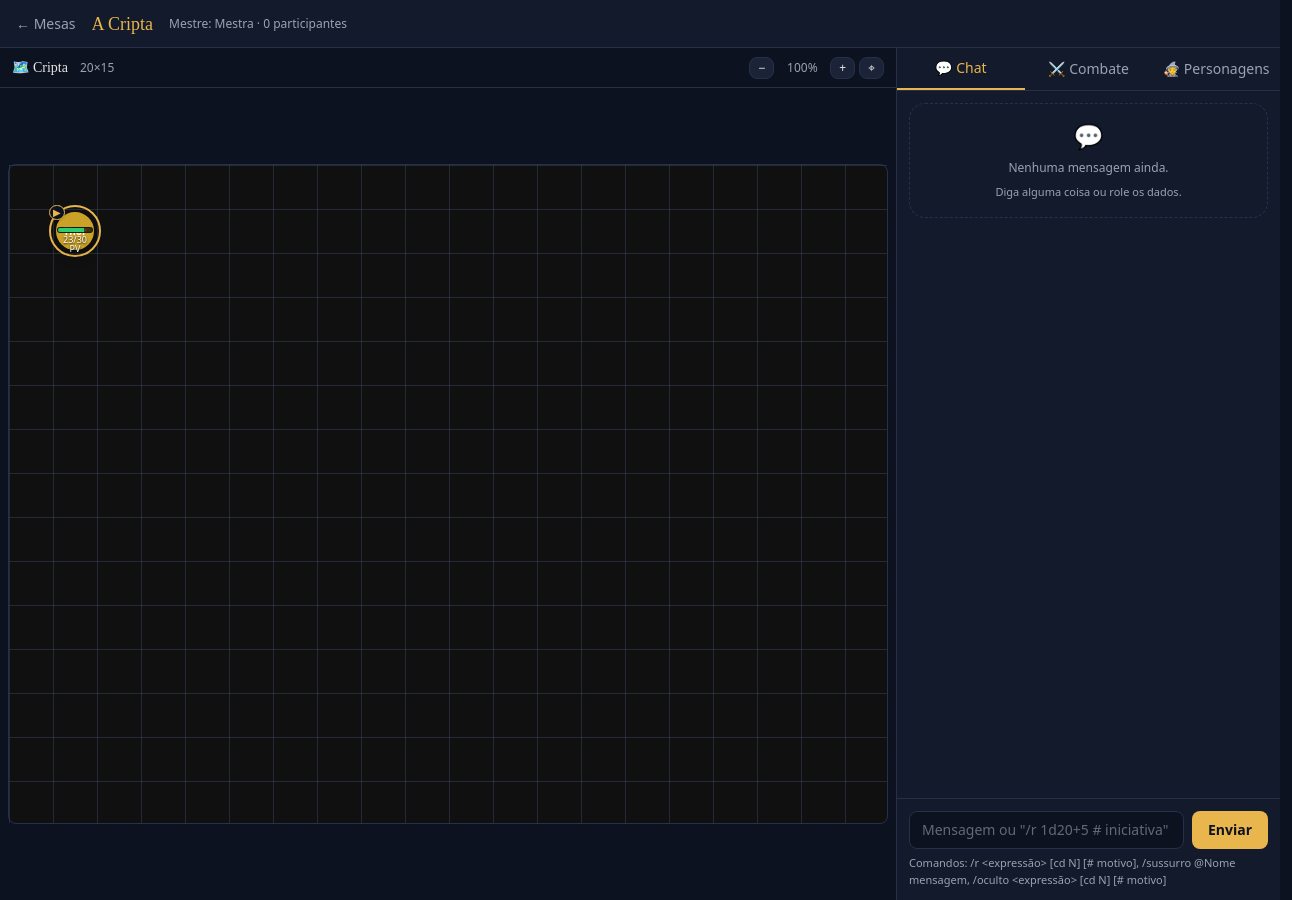
Test: PaginaMesa — a aba de combate tem caminho na tela (RV-063) › o jogador encontra a aba de combate e ela abre o painel
Click the button "⚔️ Combate".
click(1089, 69)  # box [1025,48,1152,90]
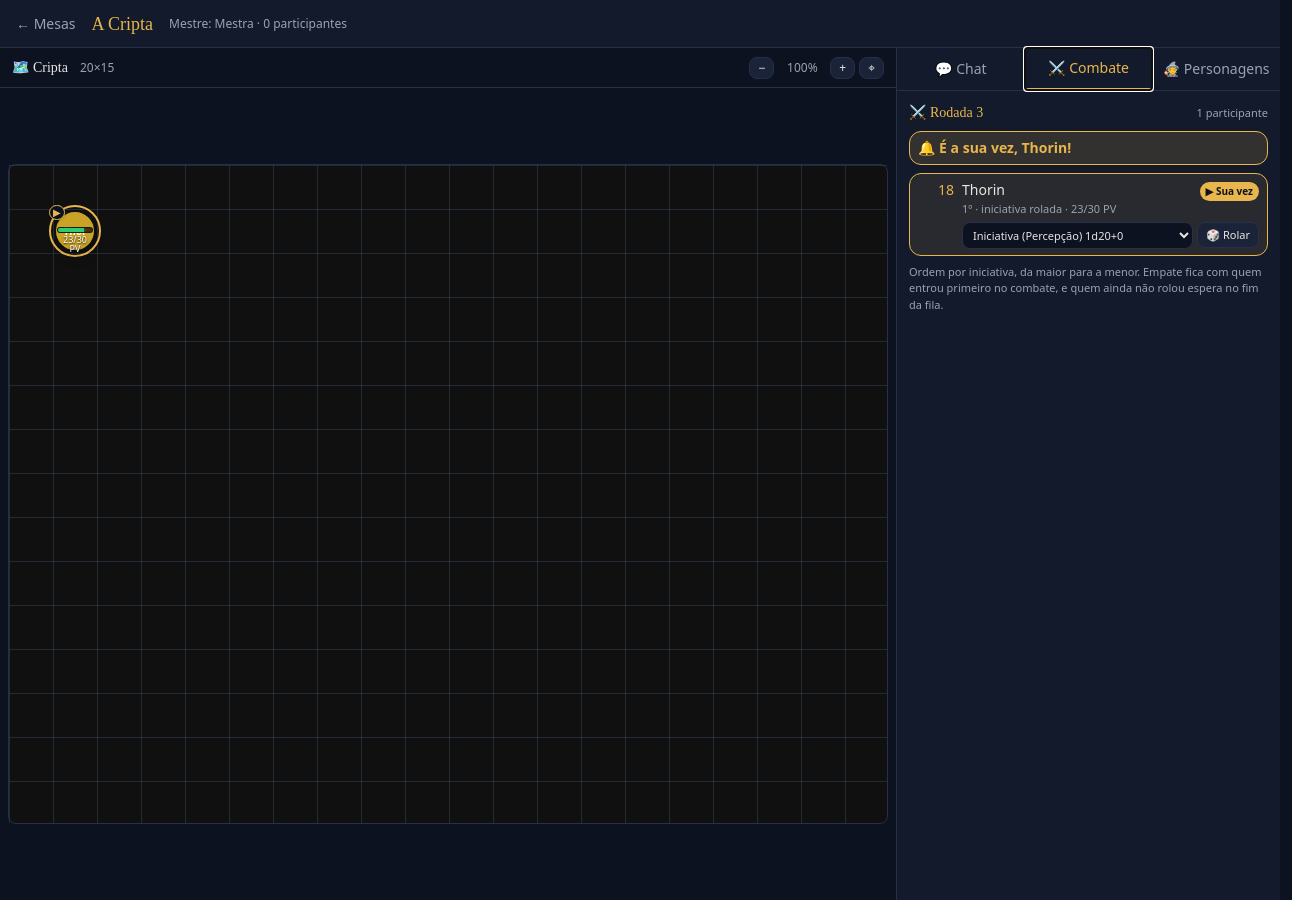
Result: the heading "⚔️ Rodada 3" is shown at [909,103,983,123]
Result: the list named "Ordem de iniciativa" is shown at [909,173,1268,256]
